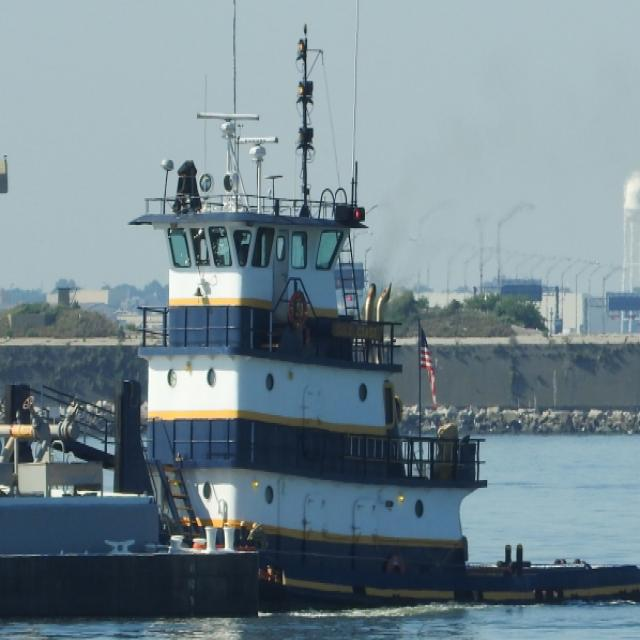tugboat: (1, 104, 640, 620)
